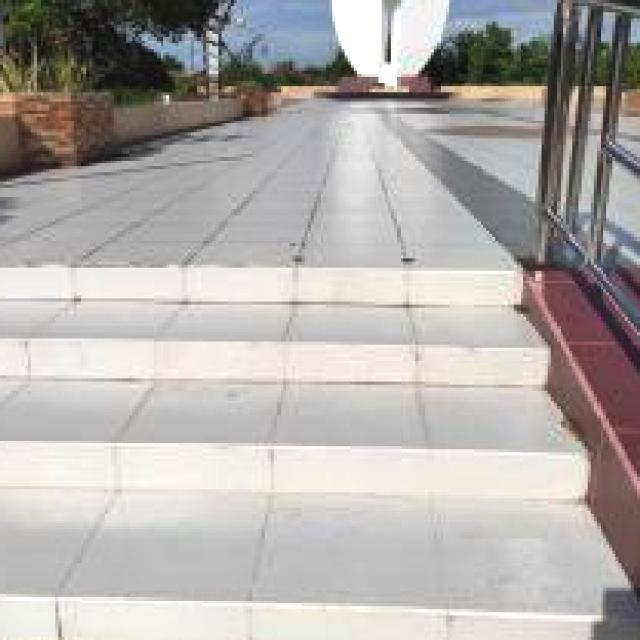upstair: (1, 250, 638, 640)
